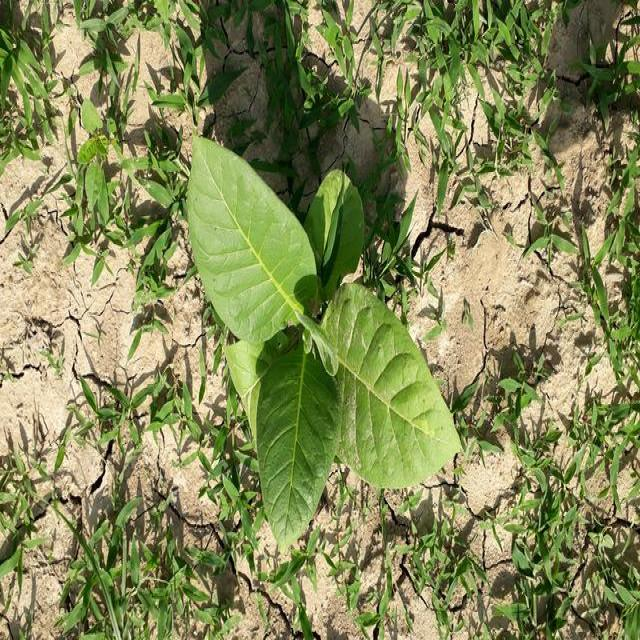crop: (190, 137, 452, 528)
